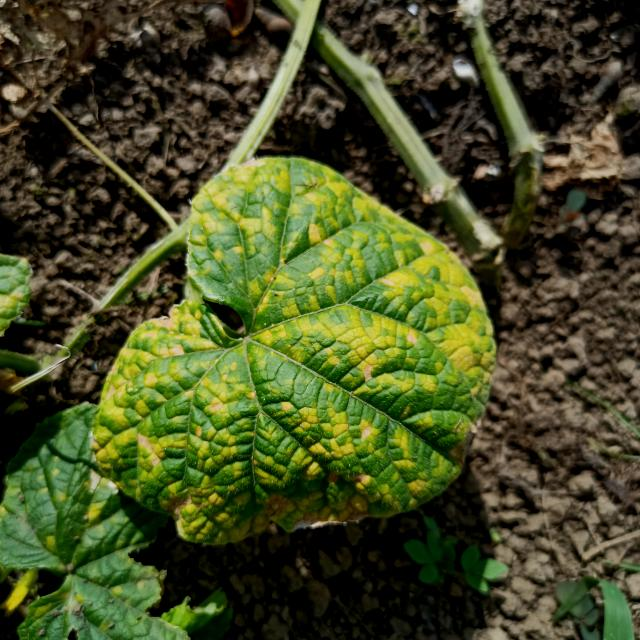disease_cucumber: (97, 163, 486, 534)
